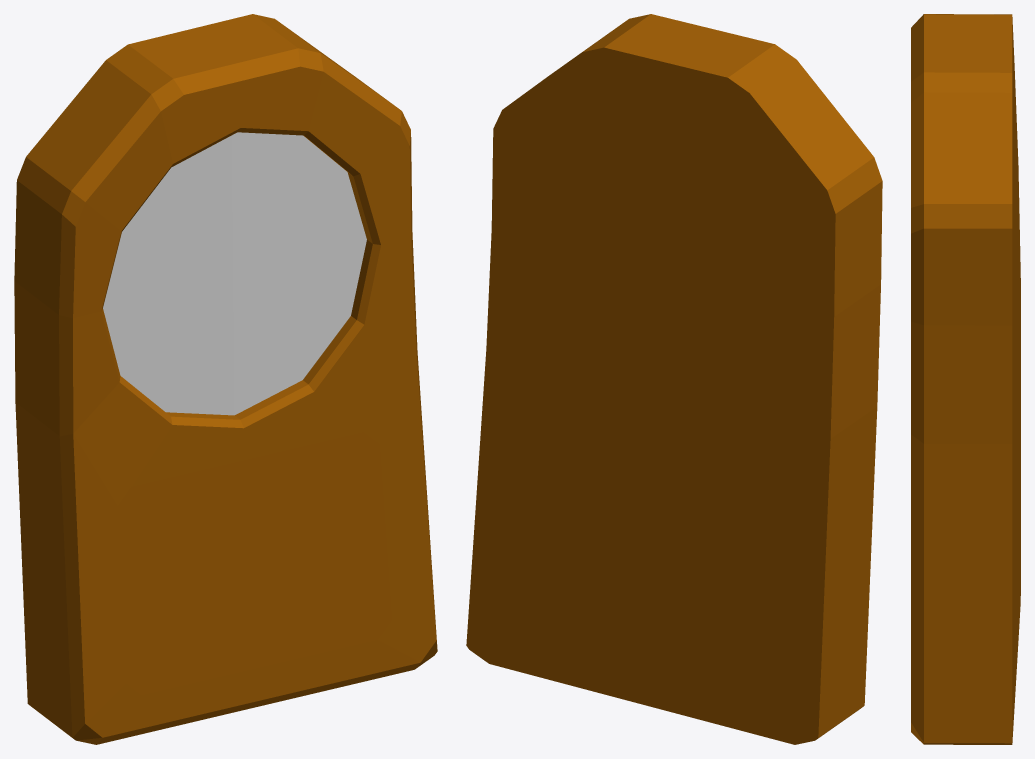
The model's file is clock_unbroken.fbx.
3 views of the same model, side by side, from view 1: azimuth 30°, elevation 25°; view 2: azimuth 150°, elevation 25°; view 3: azimuth 270°, elevation 25° (orthographic). The views are drawn at different scales.
Parts seen in each view (by area): view 1: clock; view 2: clock; view 3: clock.
Boxes of the visible parts, x1,y1,x2,y2 form: clock: (14, 14, 437, 744); clock: (466, 14, 882, 744); clock: (911, 14, 1020, 744).
Bounding box in the file's own units: 39.64 × 65.82 × 10.56.
